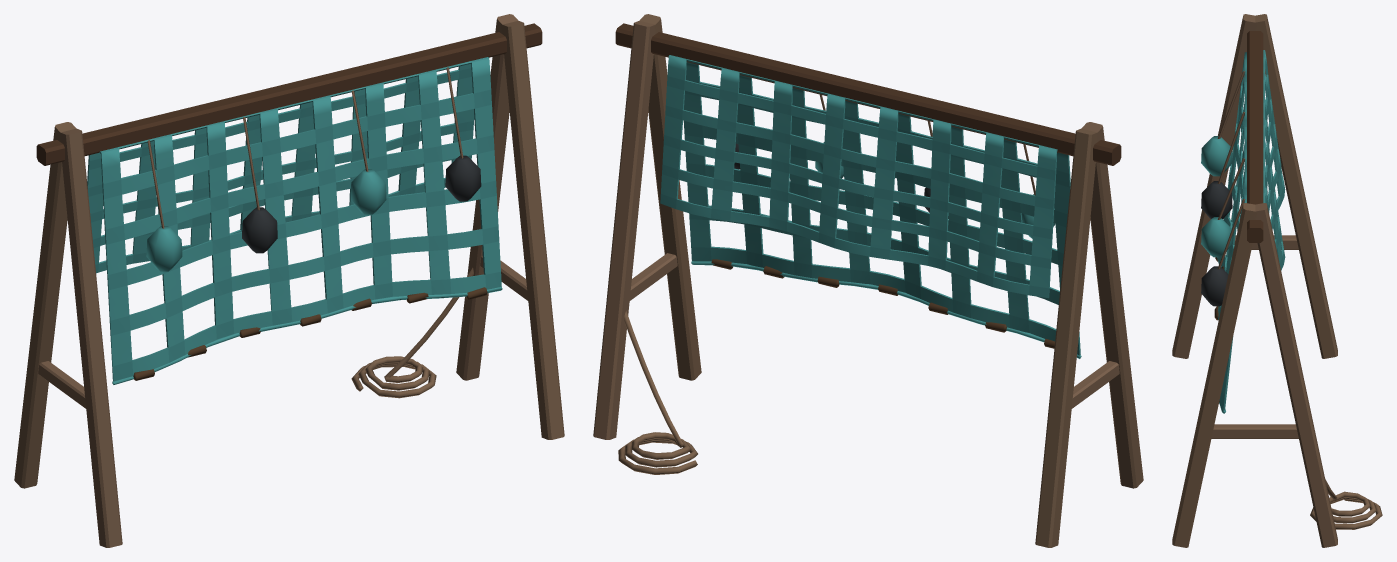
File: prop_fishing_net_rack_a.glb
3 renders of one model, left to right at view 1: azimuth 30°, elevation 25°; view 2: azimuth 150°, elevation 25°; view 3: azimuth 270°, elevation 25°, orthographic. The views are drawn at different scales.
Visible parts, largest first — view 1: prop_fishing_net_rack_a_mesh; view 2: prop_fishing_net_rack_a_mesh; view 3: prop_fishing_net_rack_a_mesh.
Part boxes in pixels (x1,y1,x2,y2): prop_fishing_net_rack_a_mesh: (14,14,564,547); prop_fishing_net_rack_a_mesh: (593,14,1143,547); prop_fishing_net_rack_a_mesh: (1172,14,1382,547).
Size of the model in its own units: 2.75 by 2.05 by 1.15.
